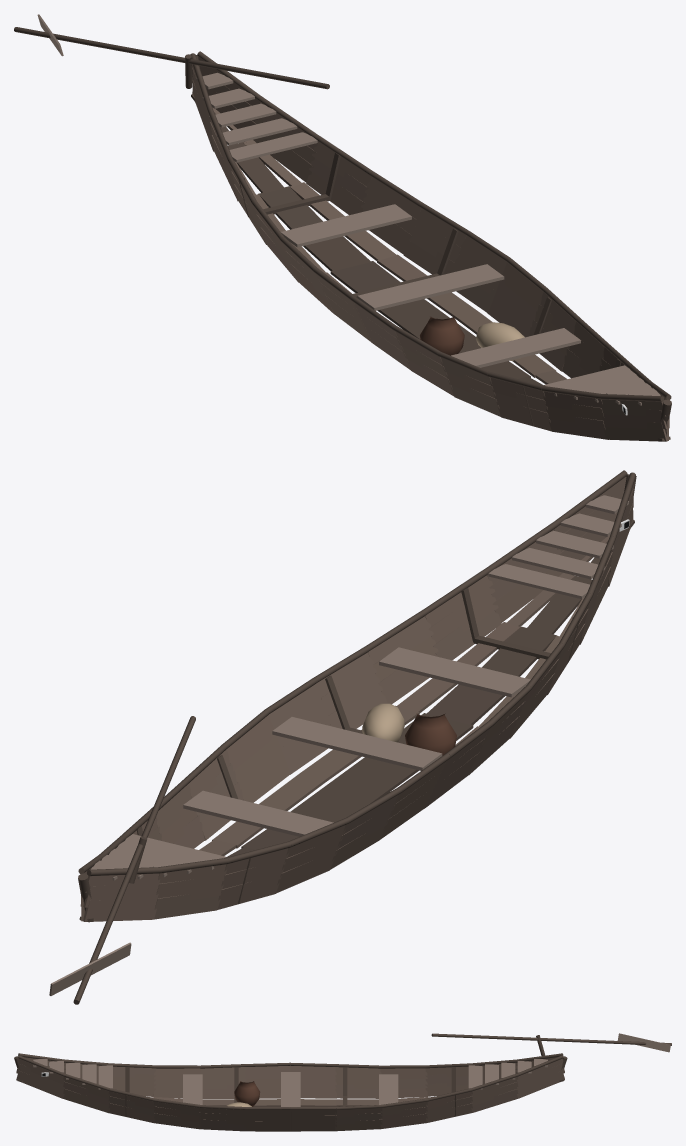
The model's file is sampan.glb.
3 renders of one model, top to bottom at view 1: azimuth 30°, elevation 25°; view 2: azimuth 150°, elevation 25°; view 3: azimuth 270°, elevation 25°, orthographic. The views are drawn at different scales.
Visible parts, largest first — view 1: Mesh_Bench_1, Mesh_Bench_0, Mesh_Bench_2, Mesh_OarShaft, Mesh_Plank_Bot_C_3_Mesh, Mesh_Plank_Bot_C_4_Mesh, Mesh_Plank_Bot_C_5_Mesh, Mesh_Plank_Bot_C_2_Mesh, Mesh_CeramicJar, Mesh_SternDeck_4, Mesh_SternDeck_3, Mesh_Plank_Bot_C_1_Mesh (+29 smaller); view 2: Mesh_Bench_1, Mesh_Bench_2, Mesh_Bench_0, Mesh_Plank_Bot_C_5_Mesh, Mesh_OarShaft, Mesh_Plank_Bot_C_6_Mesh, Mesh_Plank_Bot_C_8_Mesh, Mesh_Plank_Bot_C_9_Mesh, Mesh_BowDeck_0, Mesh_CeramicJar, Mesh_BowDeck_1, Mesh_Plank_Bot_C_10_Mesh (+32 smaller); view 3: Mesh_OarShaft, Mesh_Bench_1, Mesh_Bench_2, Mesh_Bench_0, Mesh_Plank_Side_R_2_6_Mesh, Mesh_Plank_Side_R_2_5_Mesh, Mesh_CeramicJar, Mesh_Plank_Side_L_0_6_Mesh, Mesh_Plank_Side_R_2_8_Mesh, Mesh_Plank_Side_L_0_5_Mesh, Mesh_Plank_Side_R_2_7_Mesh, Mesh_Plank_Side_R_0_4_Mesh (+74 smaller).
Boxes of the visible parts, x1,y1,x2,y2 form: Mesh_Bench_1: (357,264,504,310); Mesh_Bench_0: (281,204,411,247); Mesh_Bench_2: (451,328,580,367); Mesh_OarShaft: (14,27,329,89); Mesh_Plank_Bot_C_3_Mesh: (303,236,370,270); Mesh_Plank_Bot_C_4_Mesh: (330,261,400,292); Mesh_Plank_Bot_C_5_Mesh: (377,299,449,332); Mesh_Plank_Bot_C_2_Mesh: (258,186,322,229); Mesh_CeramicJar: (420,316,464,355); Mesh_SternDeck_4: (229,132,317,162); Mesh_SternDeck_3: (216,118,297,145); Mesh_Plank_Bot_C_1_Mesh: (228,142,284,193); Mesh_Bench_1: (272,717,442,770); Mesh_Bench_2: (379,647,530,697); Mesh_Bench_0: (183,790,333,836); Mesh_Plank_Bot_C_5_Mesh: (290,781,383,822); Mesh_OarShaft: (73,716,195,1004); Mesh_Plank_Bot_C_6_Mesh: (332,757,418,796); Mesh_Plank_Bot_C_8_Mesh: (426,684,504,724); Mesh_Plank_Bot_C_9_Mesh: (482,626,557,676); Mesh_BowDeck_0: (488,564,589,599); Mesh_CeramicJar: (405,713,456,755); Mesh_BowDeck_1: (512,548,605,579); Mesh_Plank_Bot_C_10_Mesh: (526,575,591,634); Mesh_OarShaft: (431,1033,671,1045); Mesh_Bench_1: (281,1072,300,1106); Mesh_Bench_2: (183,1074,202,1104); Mesh_Bench_0: (379,1074,398,1104); Mesh_Plank_Side_R_2_6_Mesh: (244,1065,290,1078); Mesh_Plank_Side_R_2_5_Mesh: (290,1066,336,1078); Mesh_CeramicJar: (234,1081,260,1106); Mesh_Plank_Side_L_0_6_Mesh: (244,1121,291,1131); Mesh_Plank_Side_R_2_8_Mesh: (154,1068,200,1079); Mesh_Plank_Side_L_0_5_Mesh: (290,1122,336,1131); Mesh_Plank_Side_R_2_7_Mesh: (200,1067,246,1079); Mesh_Plank_Side_R_0_4_Mesh: (335,1085,378,1098).
Bounding box in the file's own units: 1.04 × 0.8846 × 6.05.
